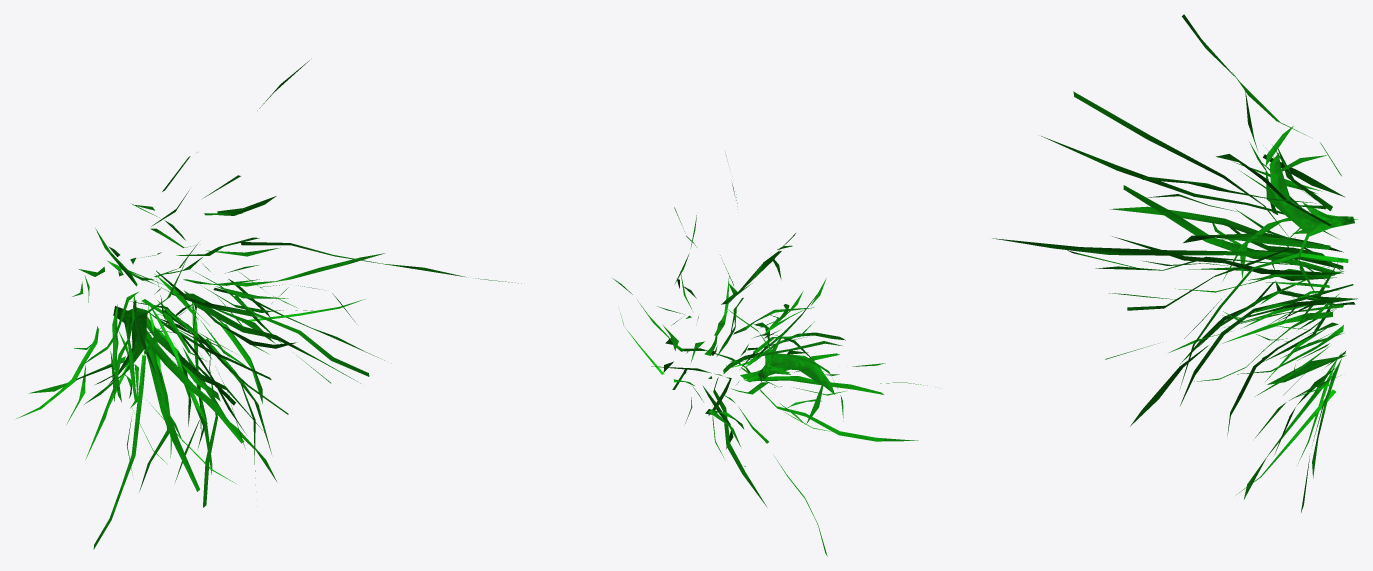
File: TundraGrass_LOD1_Var2.gltf
3 views of the same model, side by side, from view 1: azimuth 30°, elevation 25°; view 2: azimuth 150°, elevation 25°; view 3: azimuth 270°, elevation 25° (orthographic). The views are drawn at different scales.
Visible parts, largest first — view 1: lods_0; view 2: lods_0; view 3: lods_0.
Part boxes in pixels (x1,y1,x2,y2): lods_0: [16, 60, 521, 549]; lods_0: [612, 154, 927, 556]; lods_0: [992, 14, 1357, 512].
Size of the model in its own units: 0.8249 by 0.8551 by 0.4759.
Materials: 1 (1 with a texture image).
